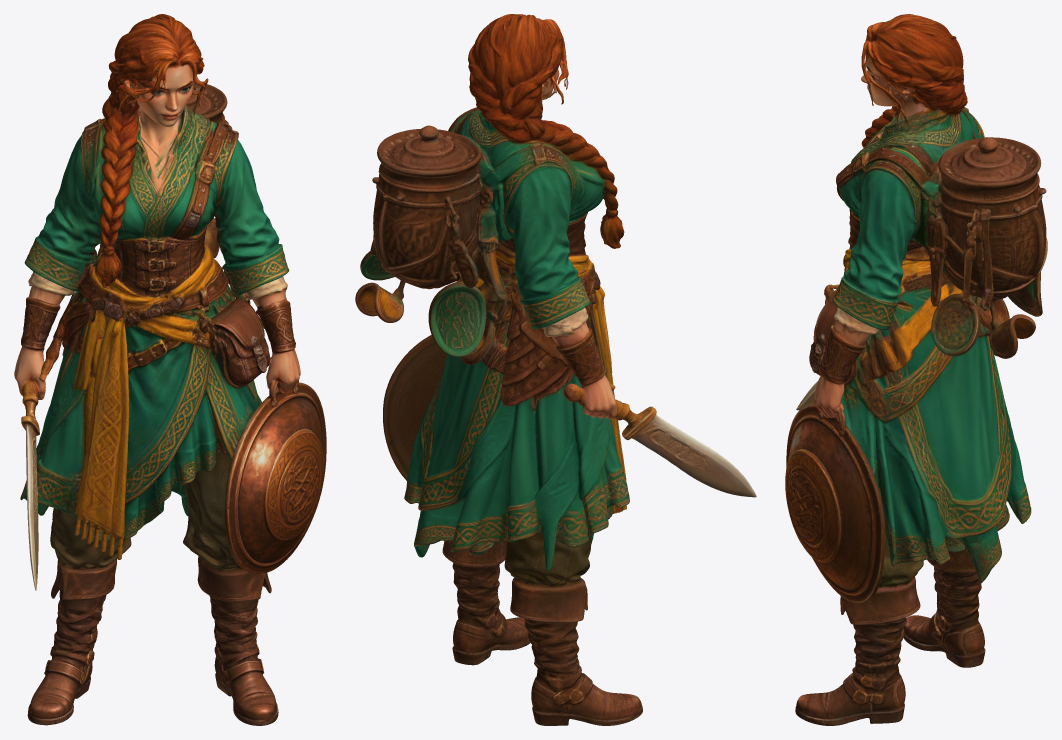
Rendered from maeve_draco.glb.
3 views of the same model, side by side, from view 1: azimuth 30°, elevation 25°; view 2: azimuth 150°, elevation 25°; view 3: azimuth 270°, elevation 25° (orthographic).
Size of the model in its own units: 0.9833 by 1.9 by 0.6707.
1 material, 1 textured.
